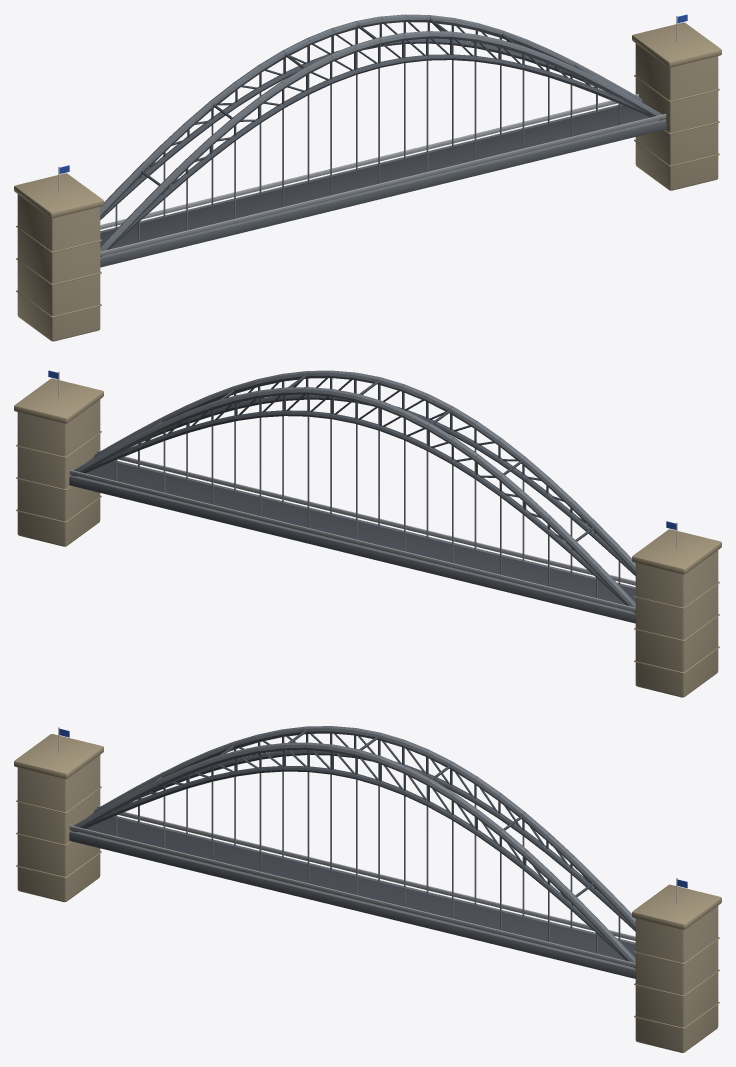
File: pp-harbourbridge.glb
The picture shows the model from 3 angles, top to bottom: view 1: azimuth 30°, elevation 25°; view 2: azimuth 150°, elevation 25°; view 3: azimuth 330°, elevation 25°; orthographic projection.
Bounding box in the file's own units: 32.6 × 10.17 × 3.2.
